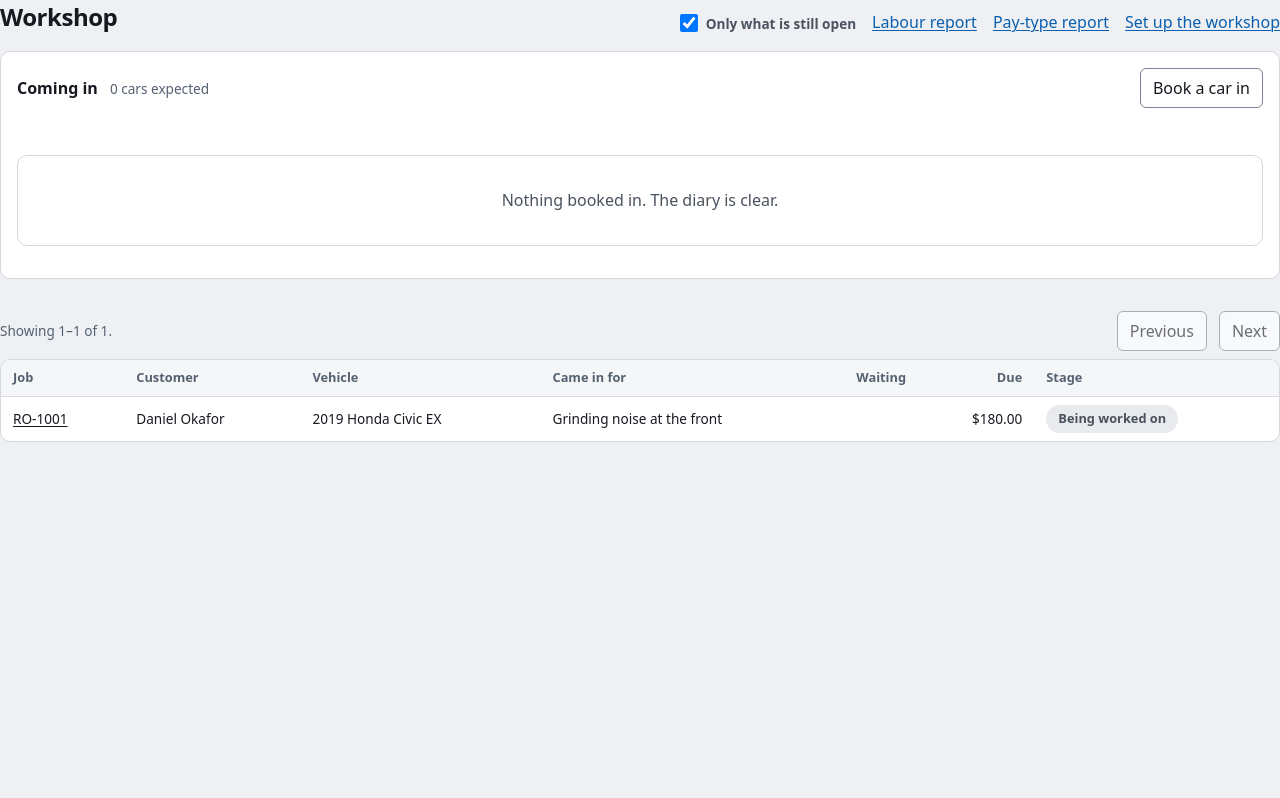
Test case: one job › offers only the moves the server says are legal
Click the button "RO-1001" at (40, 419), box [13,407,68,431]
(page scrolled)
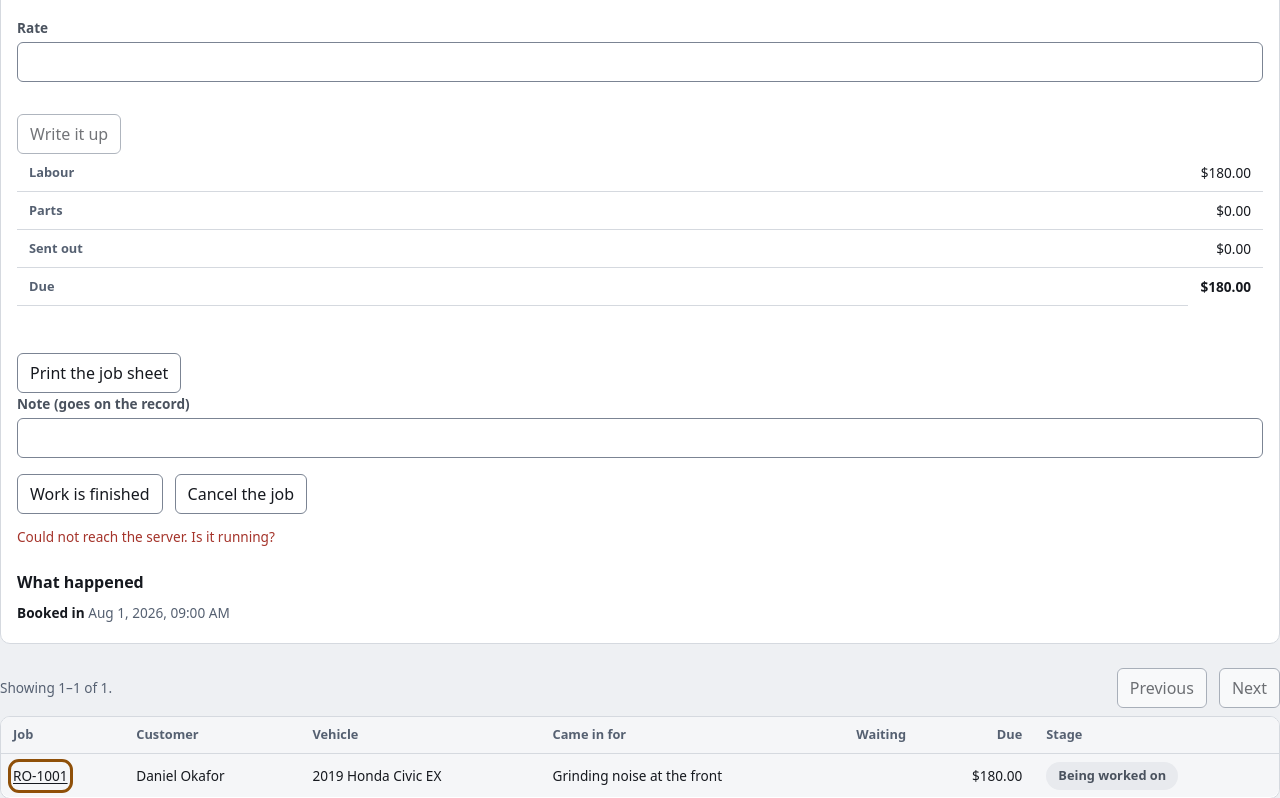
Check: the button "Work is finished" is shown, box [17,474,163,514]
Check: the button "Cancel the job" is shown, box [175,474,307,514]
